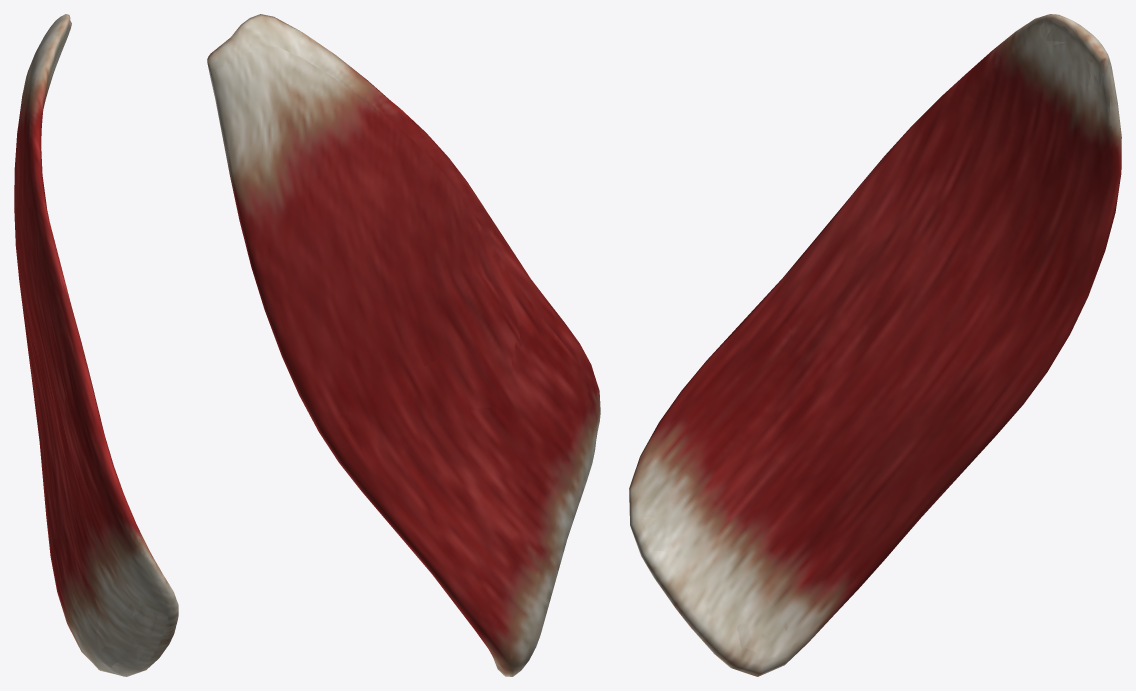
The model's file is R Biceps Femoris.fbx.
3 renders of one model, left to right at view 1: azimuth 30°, elevation 25°; view 2: azimuth 150°, elevation 25°; view 3: azimuth 270°, elevation 25°, orthographic. The views are drawn at different scales.
Parts seen in each view (by area): view 1: R Biceps Femoris, R Biceps Femoris low, R Biceps Femoris high; view 2: R Biceps Femoris, R Biceps Femoris low, R Biceps Femoris high; view 3: R Biceps Femoris high, R Biceps Femoris low, R Biceps Femoris.
Boxes of the visible parts, left/top/right/bottom form: R Biceps Femoris: left=14, top=14, right=178, bottom=676; R Biceps Femoris low: left=15, top=16, right=176, bottom=673; R Biceps Femoris high: left=15, top=16, right=174, bottom=673; R Biceps Femoris: left=207, top=14, right=600, bottom=676; R Biceps Femoris low: left=208, top=15, right=600, bottom=675; R Biceps Femoris high: left=208, top=16, right=597, bottom=670; R Biceps Femoris high: left=634, top=17, right=1120, bottom=669; R Biceps Femoris low: left=632, top=14, right=1121, bottom=675; R Biceps Femoris: left=629, top=14, right=1121, bottom=676.
Bounding box in the file's own units: 2.63 × 11.32 × 7.23.
